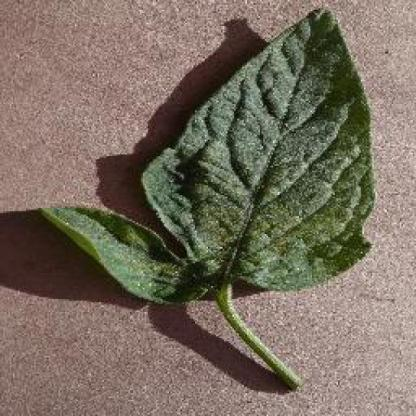Tomato_Spider_Mites: (43, 6, 376, 300)
